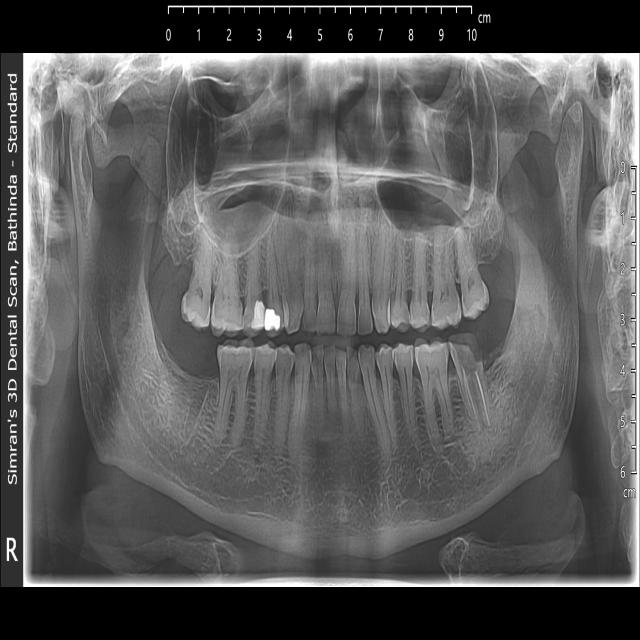Filling: (252, 300, 266, 327), (265, 307, 280, 332)
Mandibular Canal: (95, 283, 282, 499), (408, 275, 564, 501)
Missing teeth: (176, 340, 223, 388)
Root Canal Treatment: (461, 363, 480, 432), (476, 370, 490, 432)
maxillary sinus: (166, 48, 292, 256), (375, 49, 498, 244)
